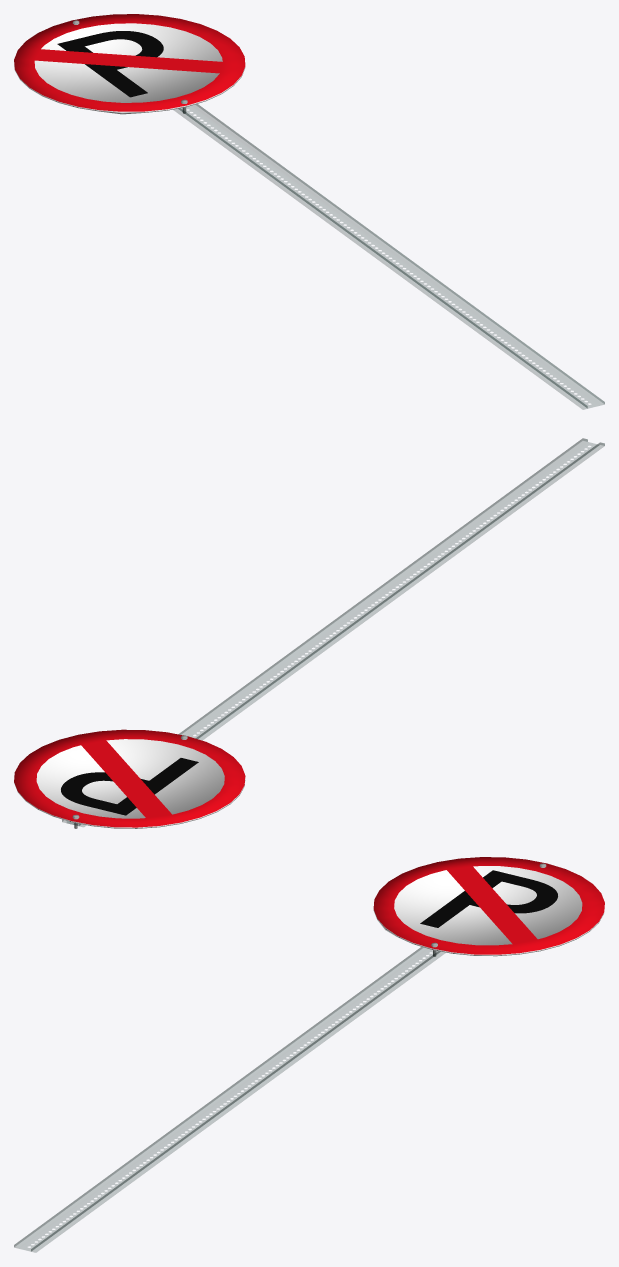
Rendered from no_parking_sign__low_poly__game_ready_-_free.glb.
3 views of the same model, one above another, from view 1: azimuth 30°, elevation 25°; view 2: azimuth 150°, elevation 25°; view 3: azimuth 330°, elevation 25° (orthographic).
Visible parts, largest first — view 1: Sign_0; view 2: Sign_0; view 3: Sign_0.
Boxes of the visible parts, box(x1,y1,x2,y2) form: Sign_0: box(14, 14, 604, 409); Sign_0: box(14, 438, 604, 828); Sign_0: box(14, 857, 604, 1252).
Bounding box in the file's own units: 0.9848 × 0.0585 × 4.43.
